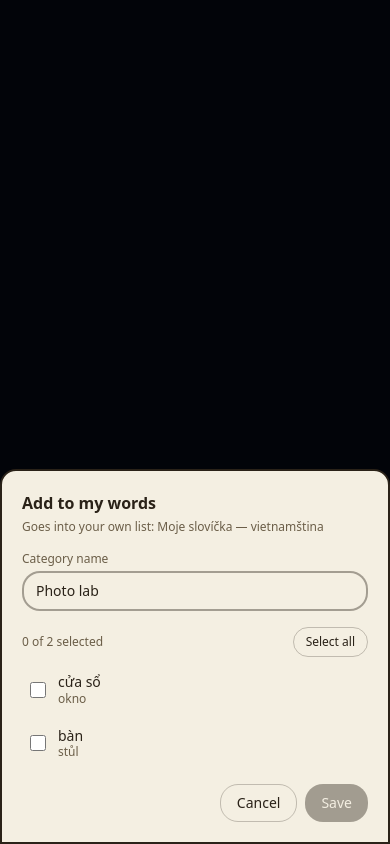
Test: SaveWordsModal › marks the duplicate word rather than the whole batch
What coordinates should you click on to do the following:
click the button "Select all"
I would click on:
 (330, 642)
Its box is [293, 627, 368, 657].
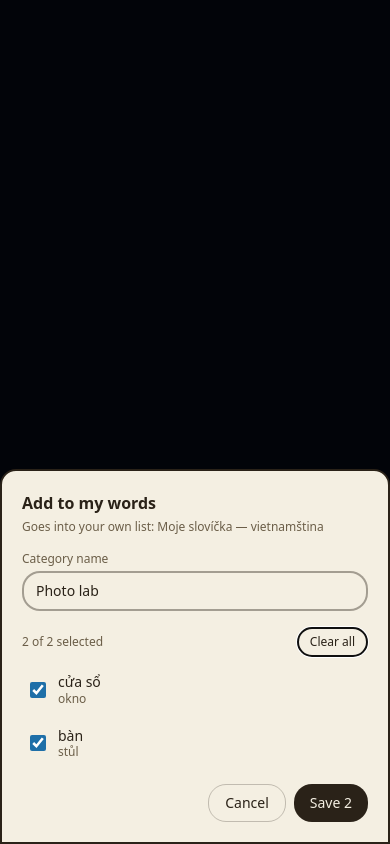
What coordinates should you click on to do the following:
click the button "Save 2"
I would click on:
 (331, 803)
Its box is [294, 784, 368, 822].
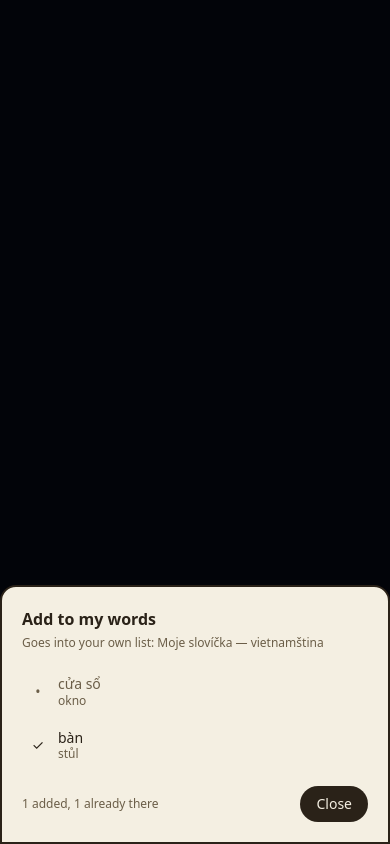
Result: the list item "okno" shows "•" at [35, 682, 41, 701]
Result: the list item "stůl" shows "✓" at [32, 735, 44, 754]
Result: the text "1 added, 1 already there" is shown at [22, 796, 159, 812]
